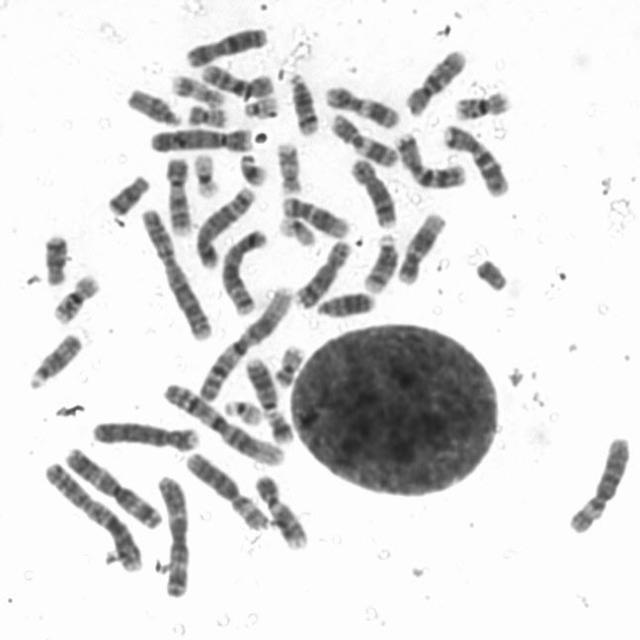A1: (193, 282, 296, 404), (158, 378, 287, 468)
A2: (40, 457, 144, 574), (137, 202, 215, 342)
A3: (59, 442, 163, 531), (152, 470, 193, 600)
B4: (88, 414, 201, 454), (146, 123, 256, 154)
B5: (190, 180, 256, 270), (216, 224, 271, 316)
C10: (402, 42, 471, 117), (196, 58, 276, 100)
C11: (325, 107, 400, 170), (323, 80, 403, 130)
C12: (392, 206, 448, 286), (276, 190, 352, 240)
C6: (180, 447, 270, 532), (563, 428, 633, 535)
C7: (438, 119, 512, 198), (389, 128, 469, 190)
C8: (290, 233, 354, 310), (345, 153, 398, 230)
C9: (250, 468, 310, 551), (161, 148, 197, 236)
D13: (241, 352, 281, 416), (312, 286, 379, 318)
D14: (280, 65, 322, 138), (360, 230, 400, 294)
D15: (24, 328, 85, 392), (124, 83, 184, 128)
E16: (48, 268, 101, 326), (452, 87, 512, 122)
E17: (166, 69, 226, 109), (274, 138, 303, 195)
E18: (102, 170, 151, 217), (40, 228, 71, 288)
F19: (190, 148, 224, 200), (276, 214, 317, 248)
F20: (269, 342, 306, 388), (183, 101, 229, 128)
G21: (237, 148, 271, 188), (266, 406, 295, 446)
G22: (220, 394, 265, 426), (239, 91, 280, 120)
X: (180, 24, 268, 68)
Y: (471, 252, 512, 292)
